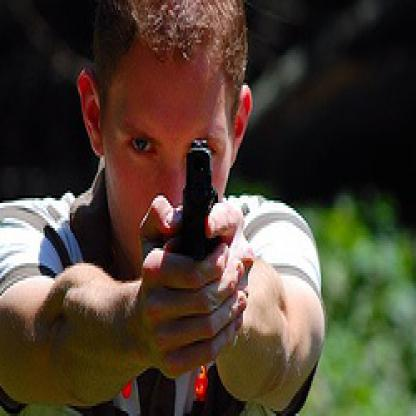gun: (181, 135, 220, 268)
